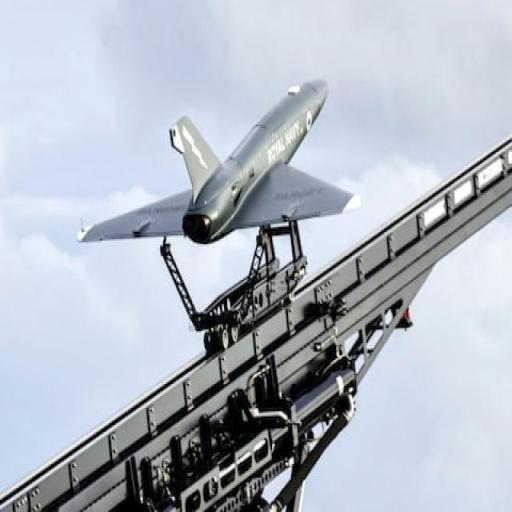uav: (72, 73, 358, 237)
